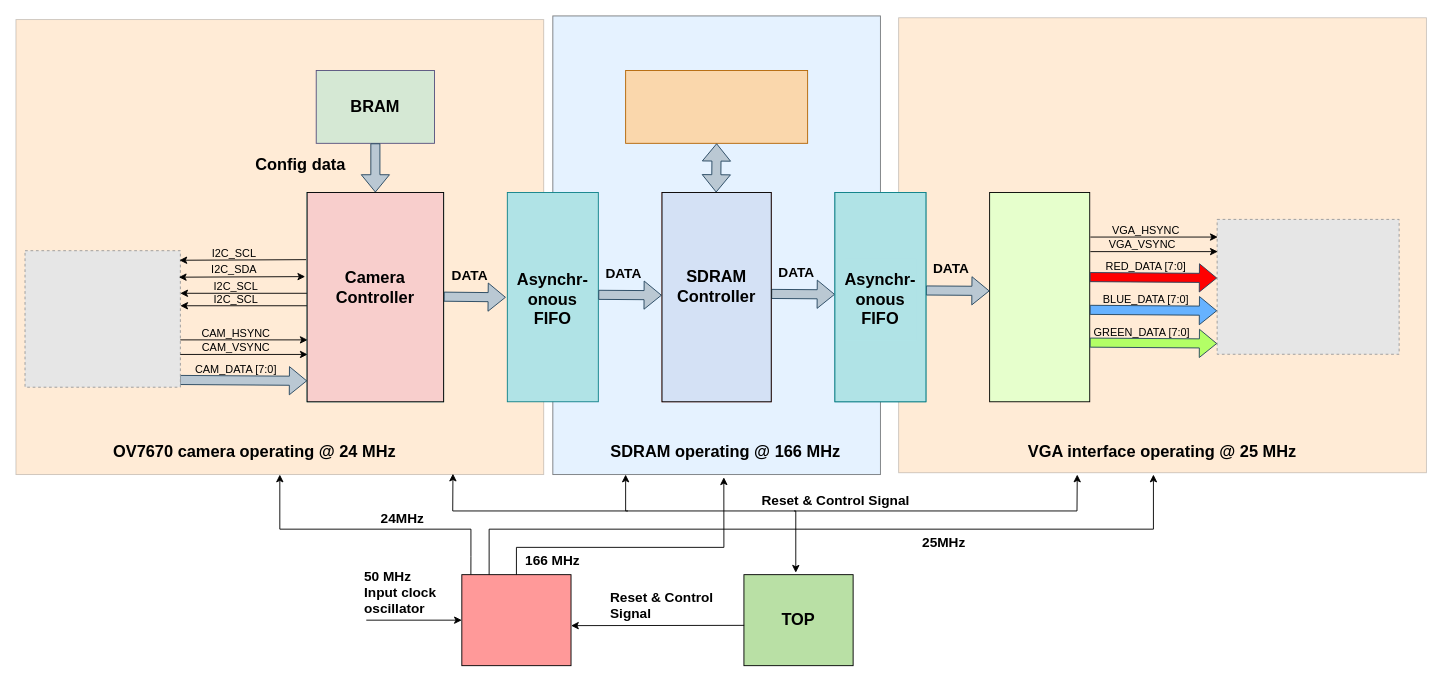
The diagram is 1442 pixels wide and 682 high, and some of its shapes have lost their labels. Grey dashed boxes stand in for pictures. The shapes that lost their labels are listed below. From the top down, each one's centre as x and y in pixels, then its label:
At point (716, 106): "32MB SDRAM P/N: W9825G6KH-6".
At point (1039, 297): "VGA Controller".
At point (516, 620): "PLL (MMCM)".
